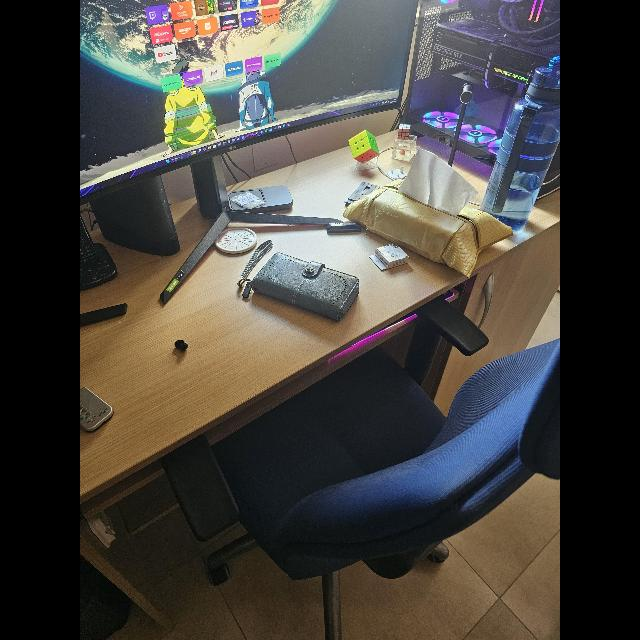Wallet: (247, 252, 357, 321)
